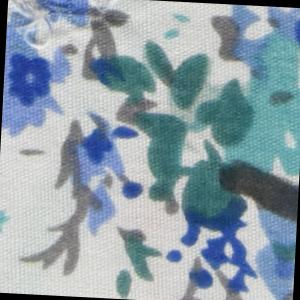Damage: (6, 1, 148, 57)
Stain: (211, 153, 300, 236)
